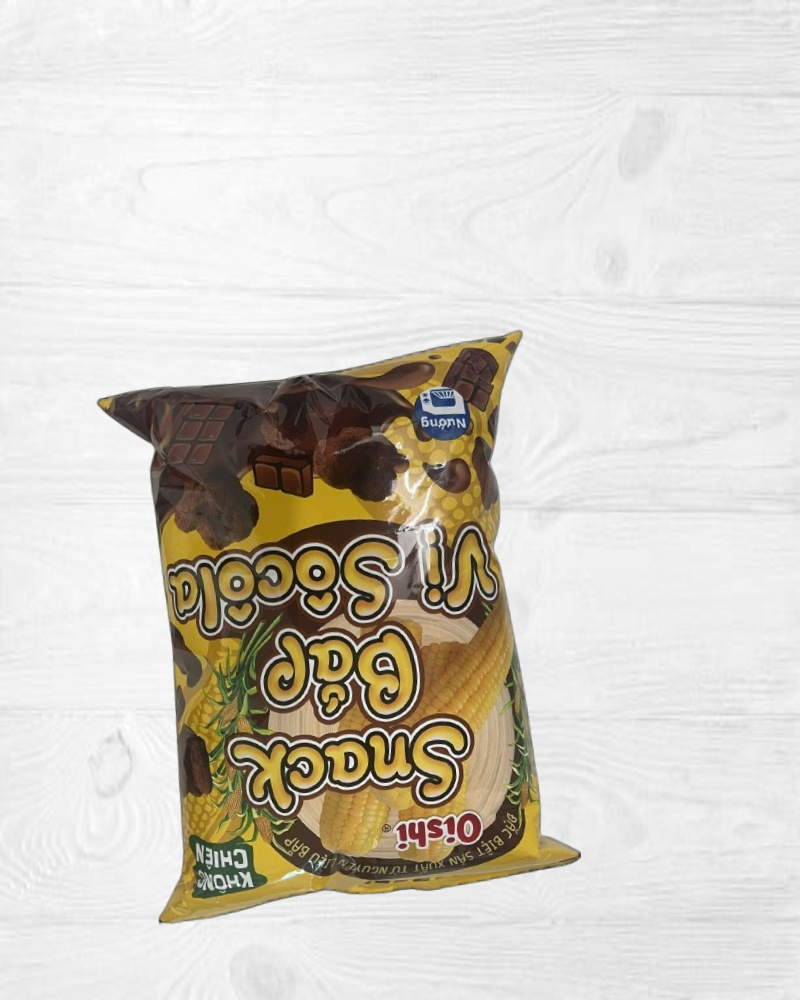Snack socola: (97, 332, 584, 924)
